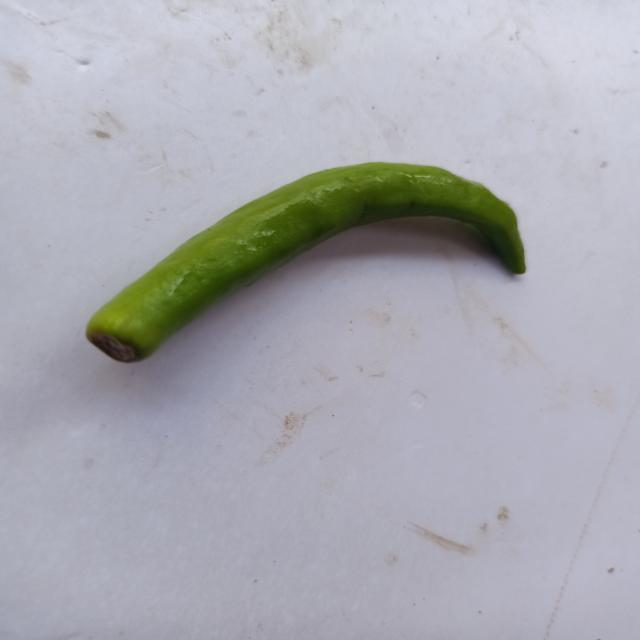Green Chilly: (85, 162, 526, 362)
